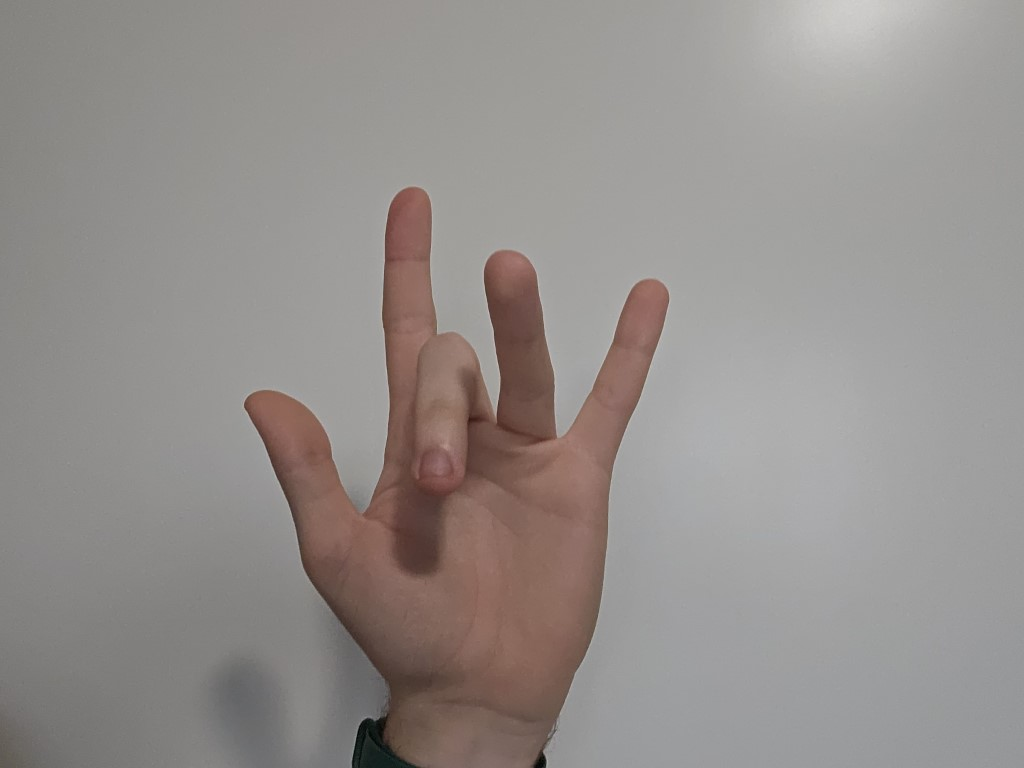reset: (190, 183, 738, 727)
